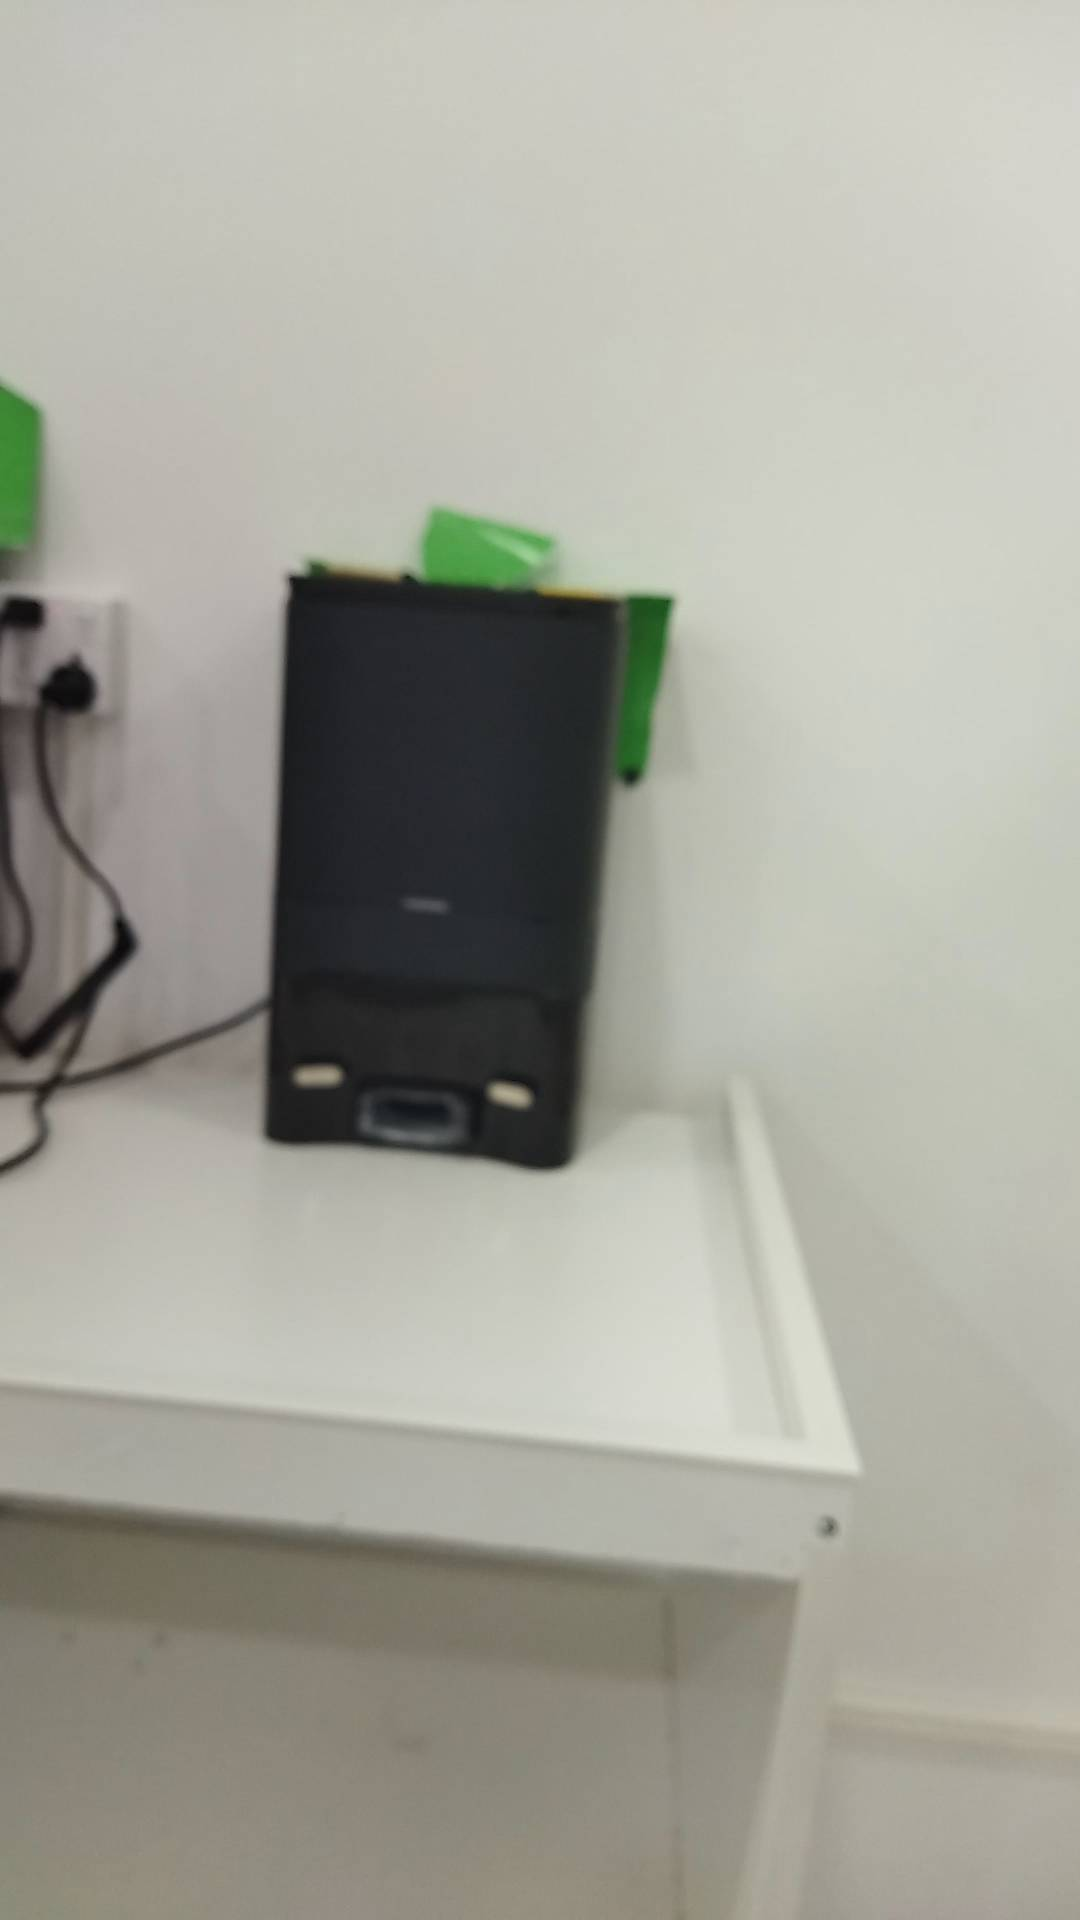dust collecting barrel: (261, 568, 622, 1174)
